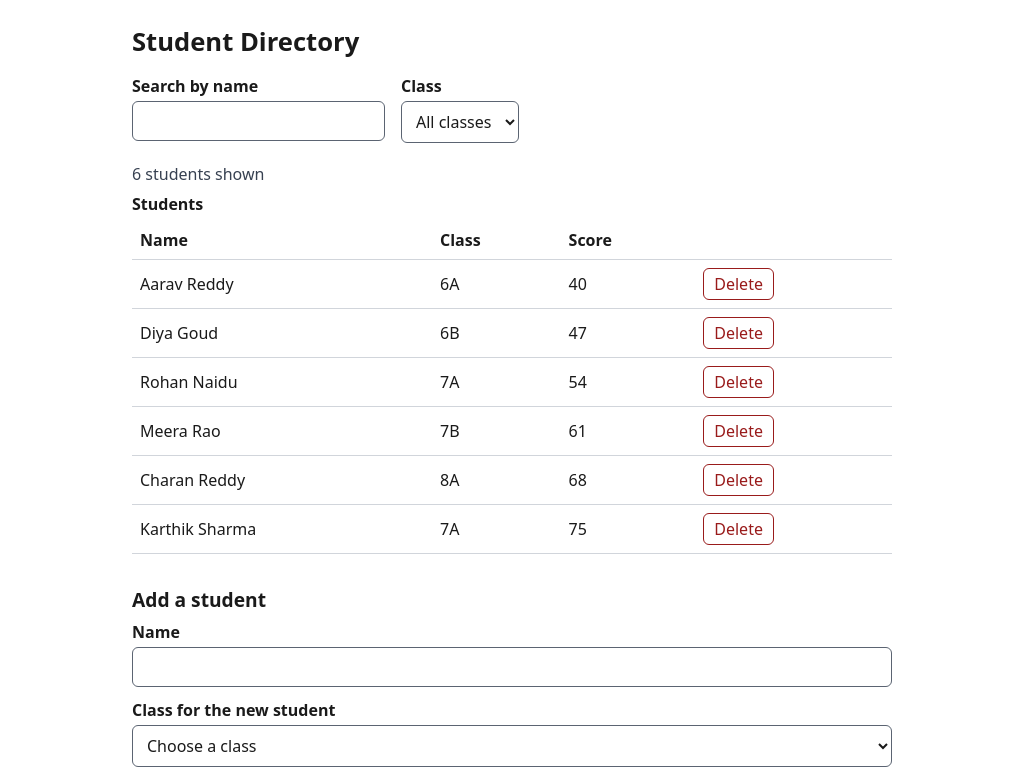
Test case: deleting a student › deleting someone already deleted by someone else shows the server's message and refreshes the list
Check: the table is shown, box [132, 193, 892, 554]
Click the button with aria-label "Delete Diya Goud" at (739, 333), box [703, 317, 774, 349]
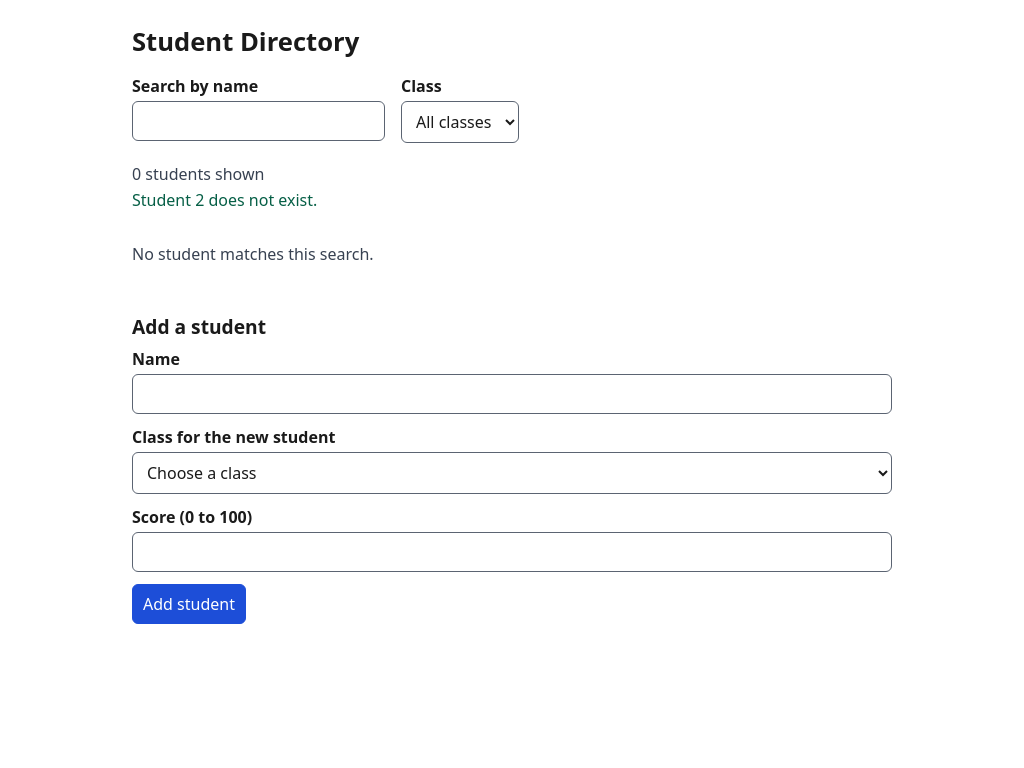
Check: the text "Student 2 does not exist." is shown, box [132, 189, 317, 211]
Check: the text "No student matches this search." is shown, box [132, 243, 374, 265]
